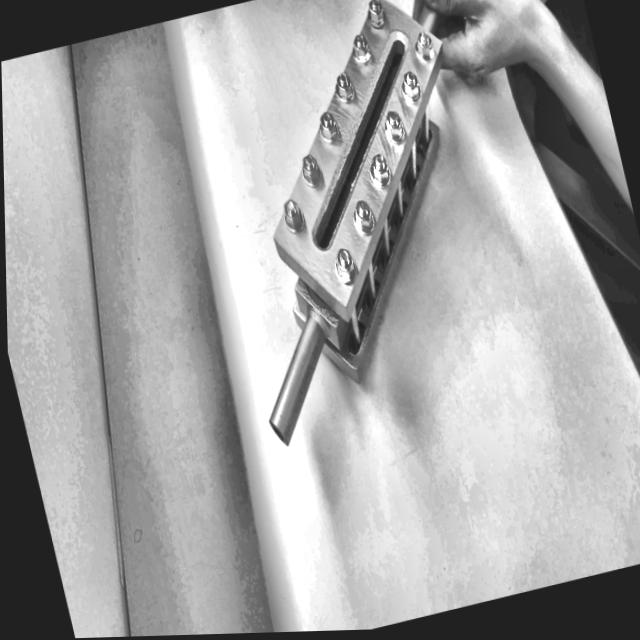ShuiWeiQi_12: (183, 0, 521, 428)
